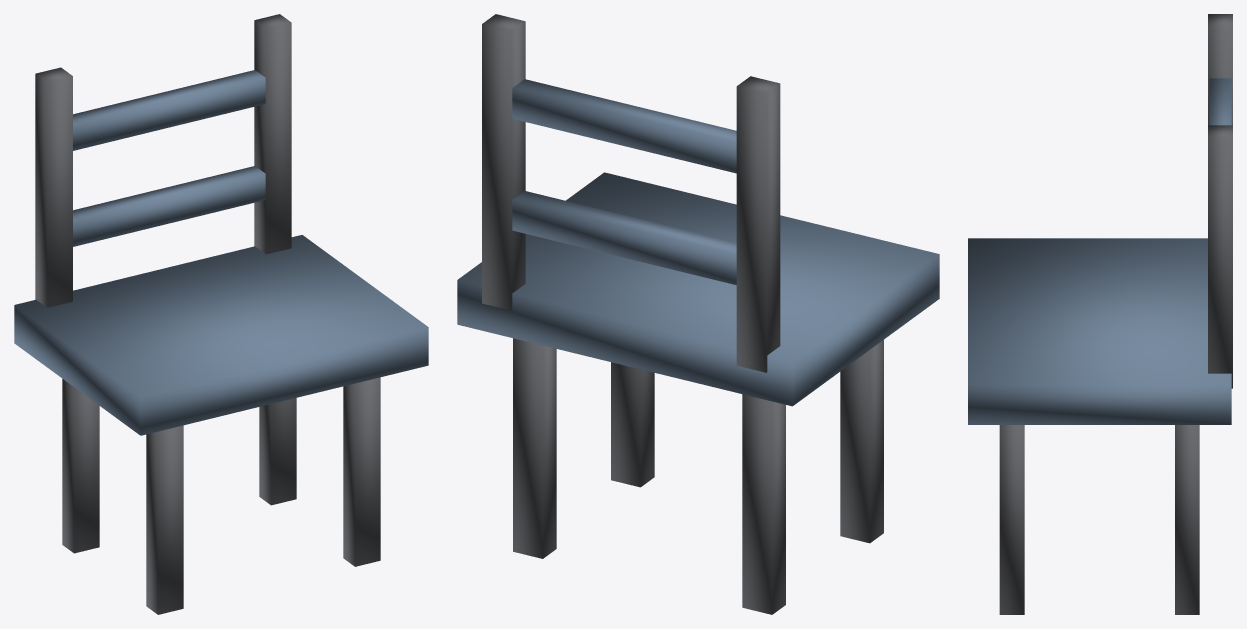
The model's file is jury_chair__wide.glb.
3 views of the same model, side by side, from view 1: azimuth 30°, elevation 25°; view 2: azimuth 150°, elevation 25°; view 3: azimuth 270°, elevation 25° (orthographic). The views are drawn at different scales.
Parts seen in each view (by area): view 1: world; view 2: world; view 3: world.
Part boxes in pixels (<box>): world: <box>14,14,428,614</box>; world: <box>457,14,939,614</box>; world: <box>968,14,1232,614</box>.
Size of the model in its own units: 0.628 by 0.9631 by 0.4796.
